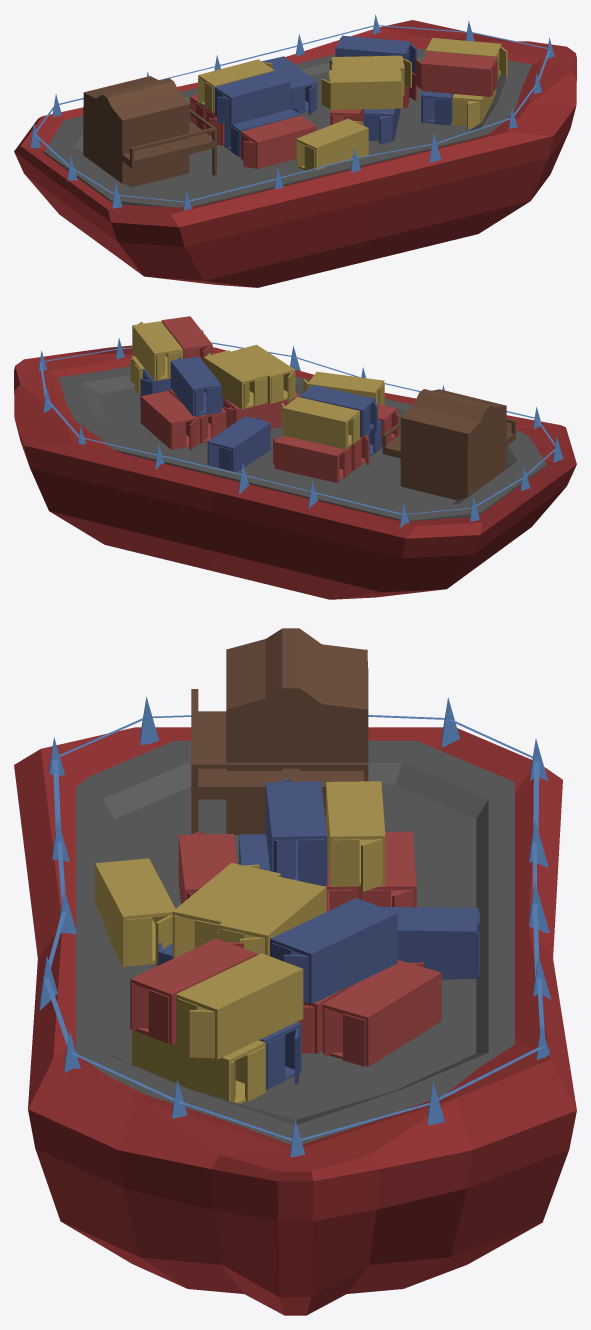
File: bezos_barge.fbx
The picture shows the model from 3 angles, top to bottom: view 1: azimuth 30°, elevation 25°; view 2: azimuth 150°, elevation 25°; view 3: azimuth 270°, elevation 25°; orthographic projection. The views are drawn at different scales.
Parts seen in each view (by area): view 1: Cube.001; view 2: Cube.001; view 3: Cube.001.
Part boxes in pixels (left/top/right/bottom): Cube.001: left=14, top=15, right=576, bottom=287; Cube.001: left=14, top=316, right=576, bottom=599; Cube.001: left=14, top=628, right=576, bottom=1315.
Size of the model in its own units: 4214 by 1592 by 2206.
